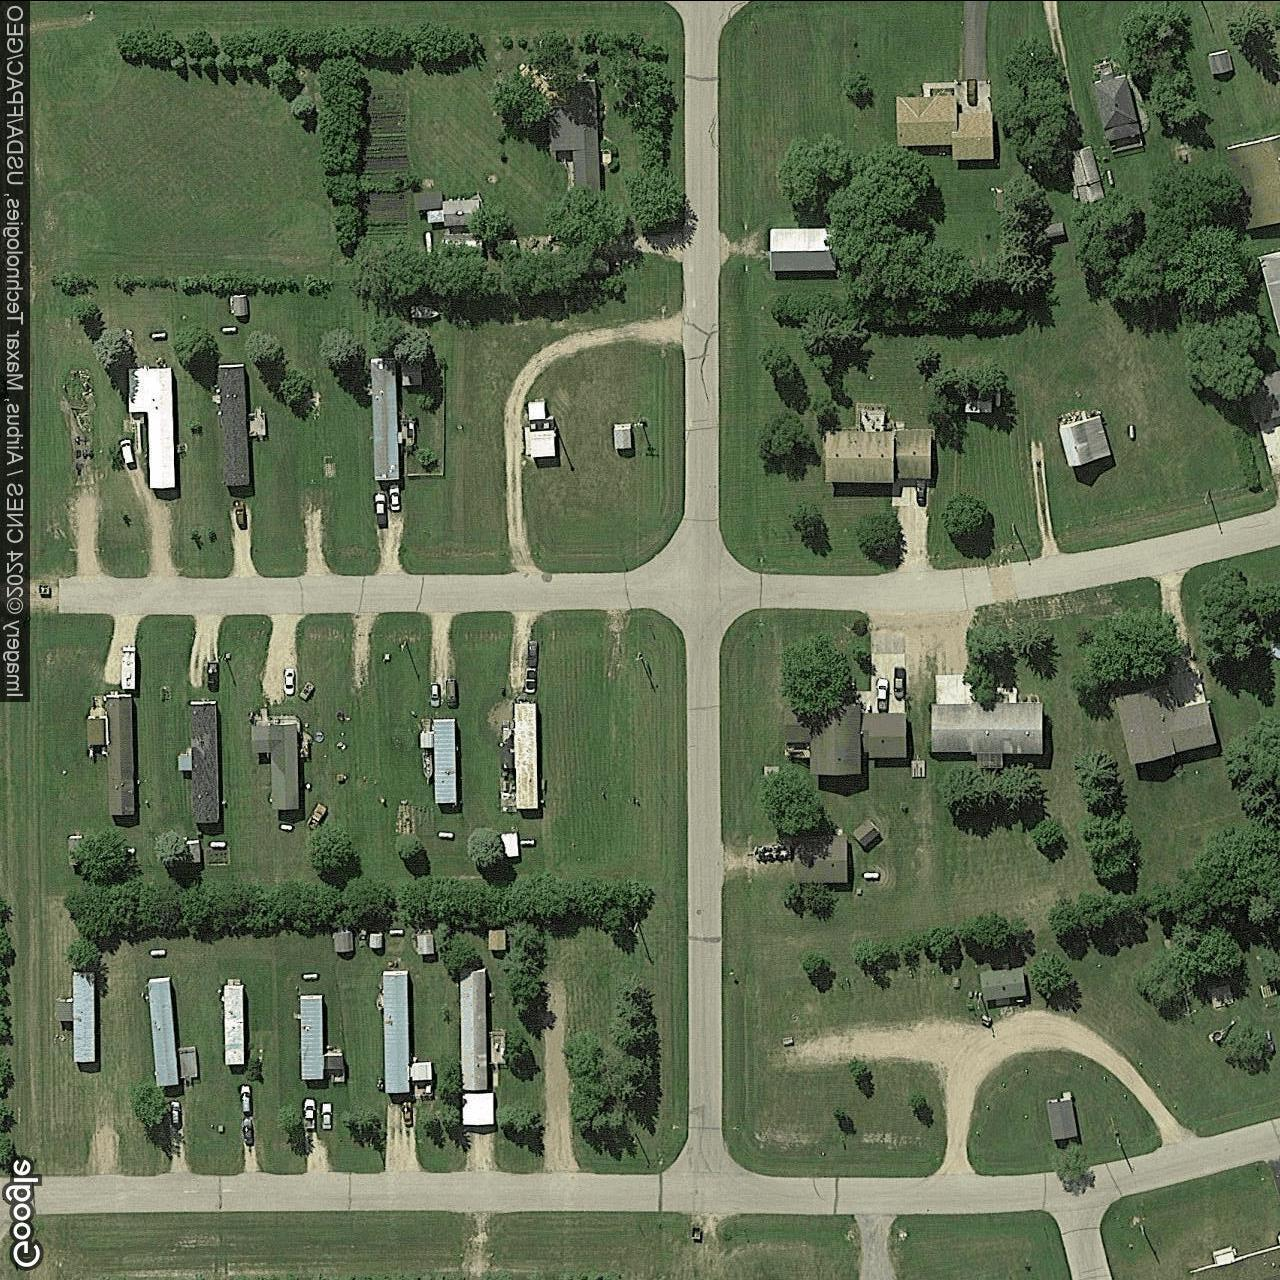Garage: (770, 226, 837, 271), (1058, 415, 1111, 467), (795, 833, 847, 884), (1067, 144, 1105, 204), (525, 400, 556, 456), (979, 966, 1027, 1000), (462, 1091, 495, 1124), (444, 199, 479, 225)
House: (783, 703, 907, 774), (1114, 683, 1217, 765), (897, 94, 993, 159), (824, 427, 934, 482), (550, 77, 600, 195), (932, 702, 1043, 755), (1225, 132, 1280, 229), (1092, 68, 1142, 139), (1245, 369, 1280, 423), (1258, 250, 1280, 333)
Propane: (1104, 168, 1116, 188), (424, 230, 433, 254), (301, 971, 320, 981), (149, 331, 169, 340), (436, 830, 455, 839), (220, 325, 239, 334), (862, 871, 880, 879), (149, 948, 168, 956), (209, 839, 227, 847), (388, 927, 406, 935), (519, 838, 537, 846), (995, 389, 1002, 408), (280, 823, 294, 831), (1129, 423, 1136, 440)
Trailer: (128, 366, 176, 489), (248, 722, 299, 809), (217, 362, 248, 484), (370, 356, 401, 479), (190, 700, 220, 821), (104, 693, 135, 813), (56, 969, 95, 1063), (459, 966, 488, 1090), (148, 976, 178, 1087), (382, 969, 409, 1091), (515, 702, 538, 808), (299, 993, 325, 1080), (223, 982, 246, 1065), (434, 716, 456, 803)
